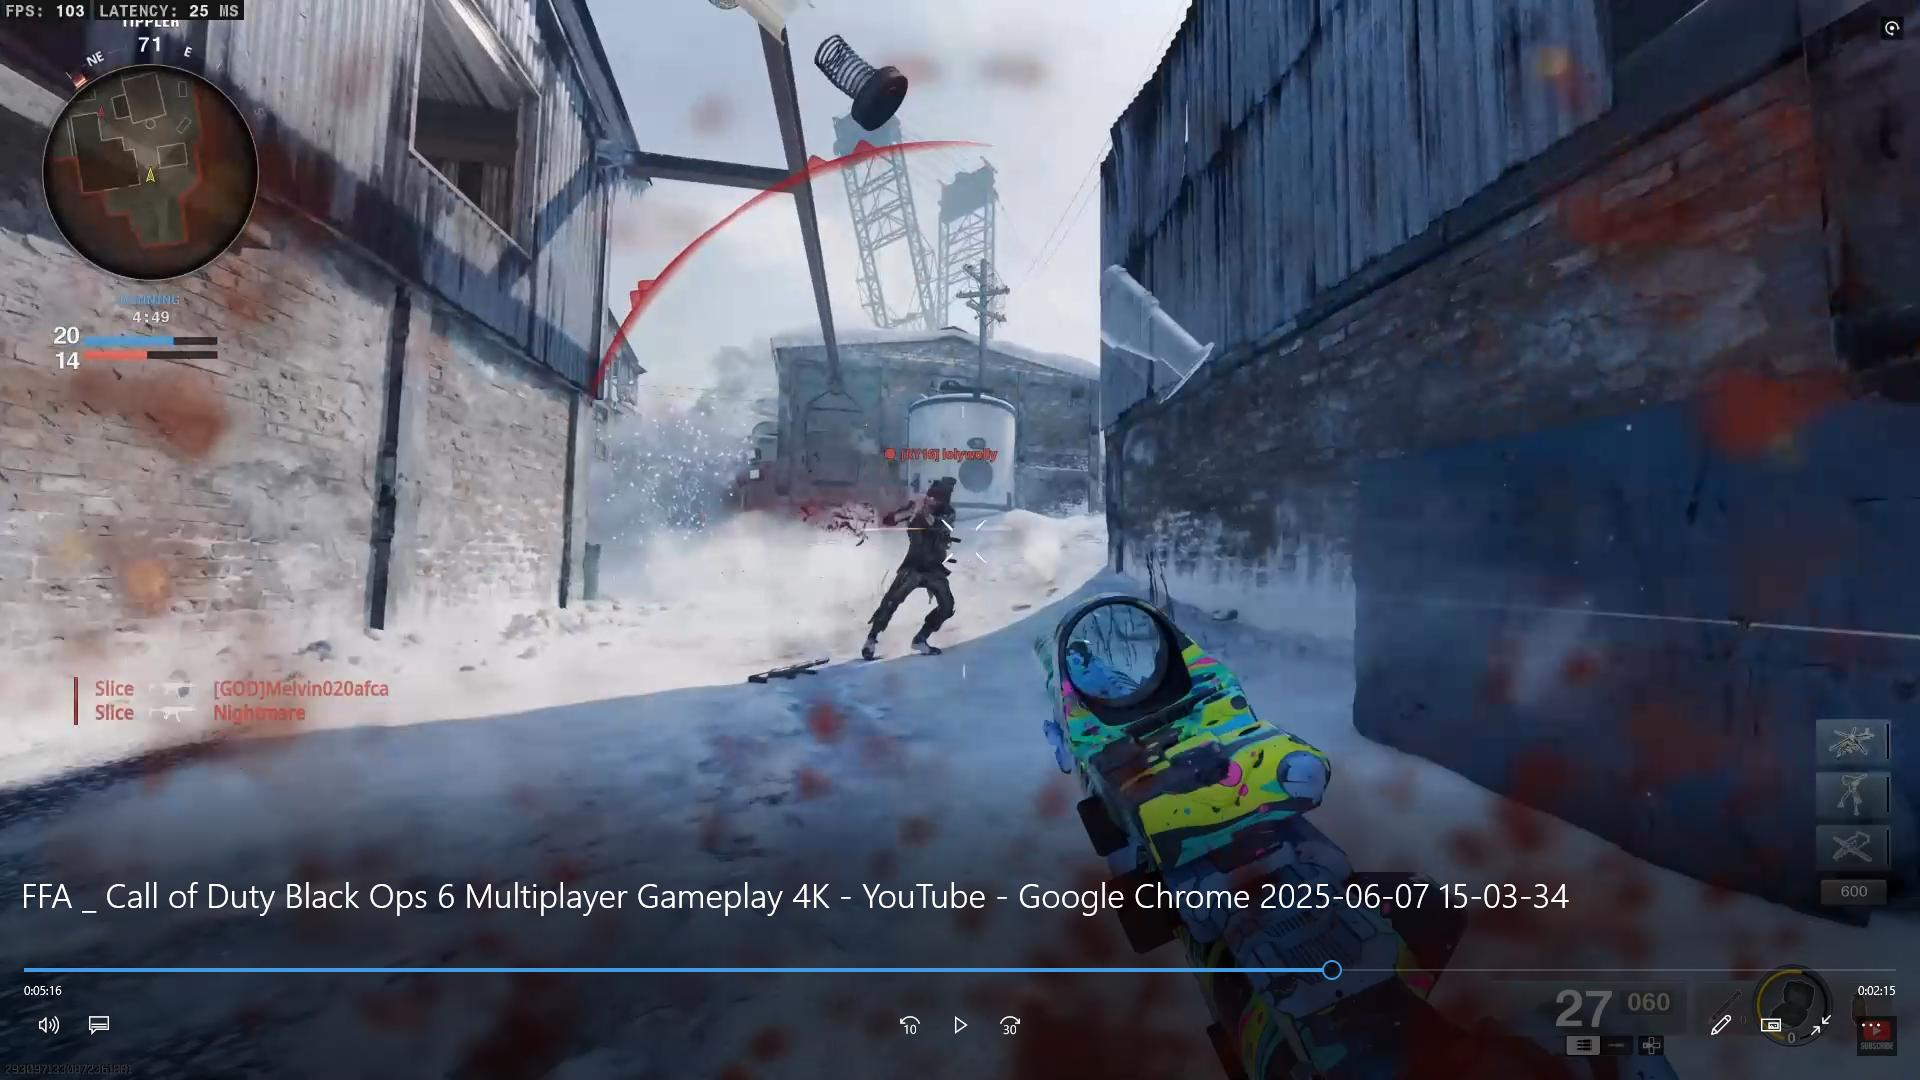Enemy: (870, 465, 969, 658)
